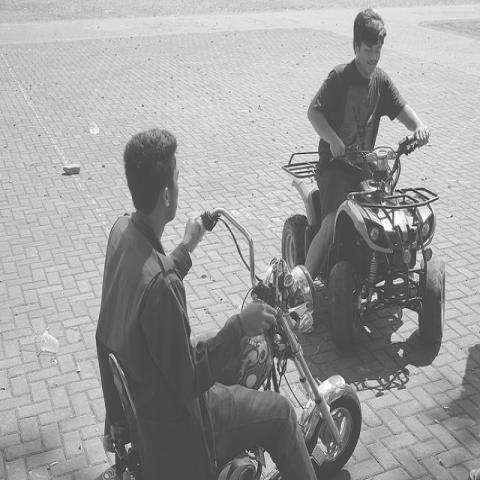motorcycle: (274, 129, 447, 357), (195, 207, 362, 409)
